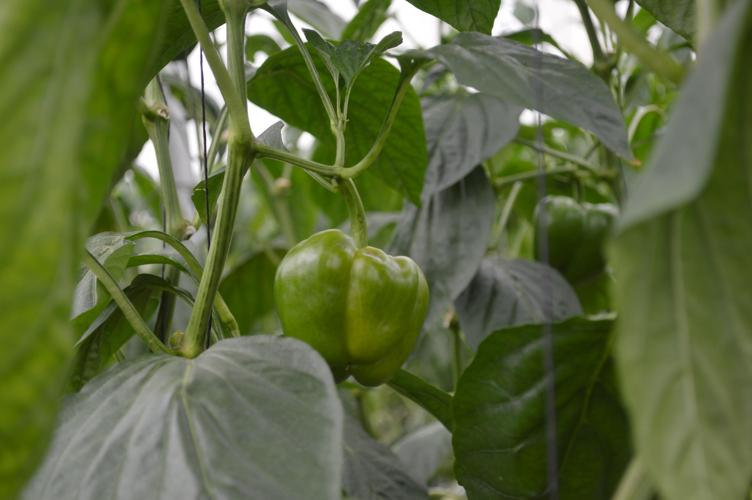BellPepper: (273, 230, 435, 396), (520, 186, 636, 280)
